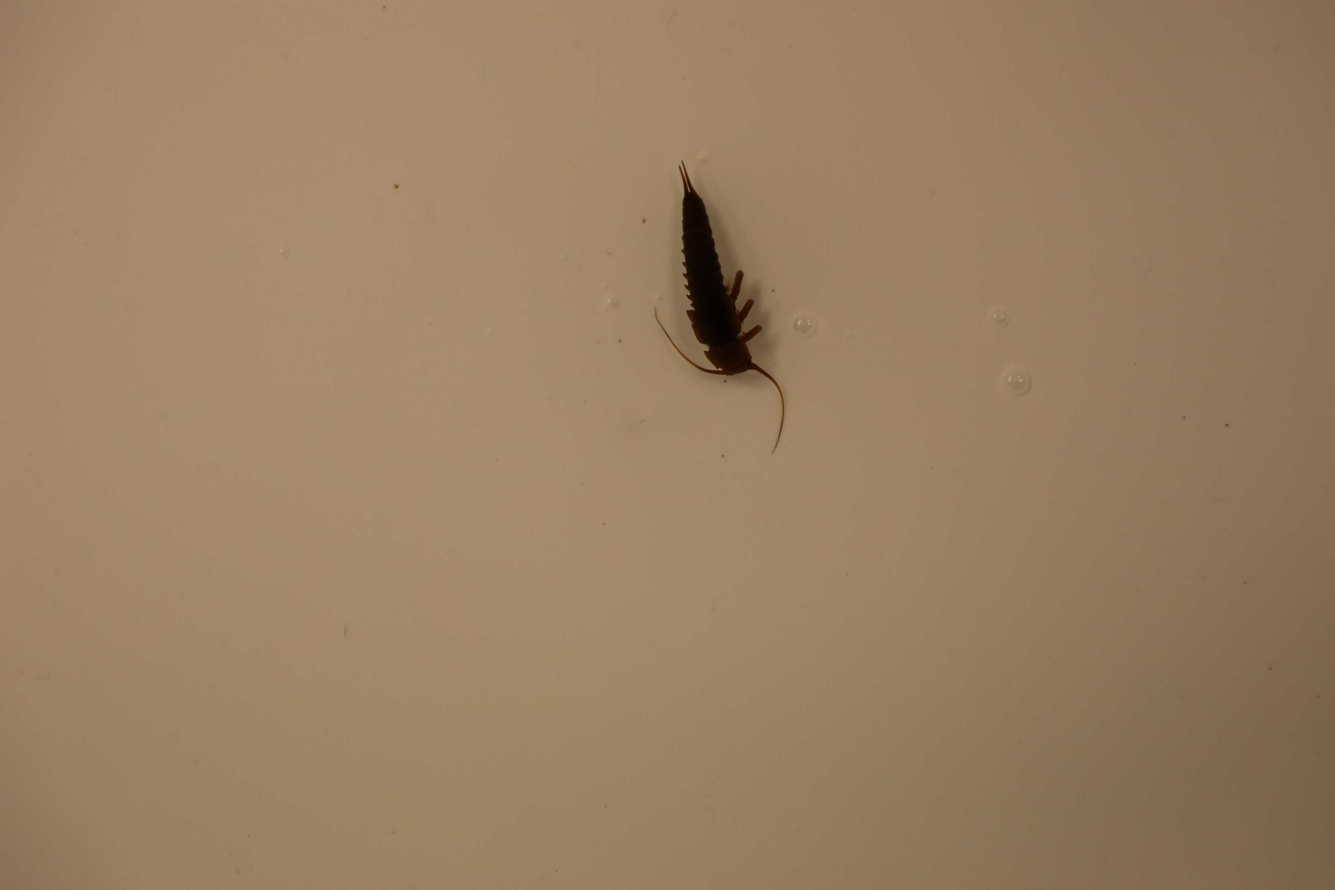Stonefly: (637, 160, 796, 456)
